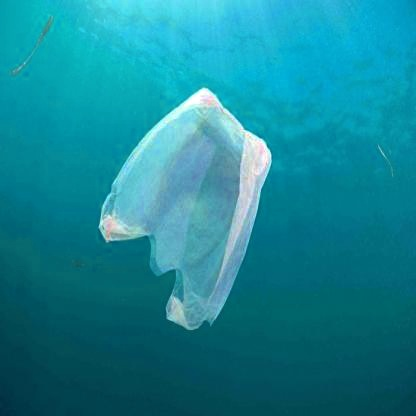pbag: (89, 79, 276, 334)
